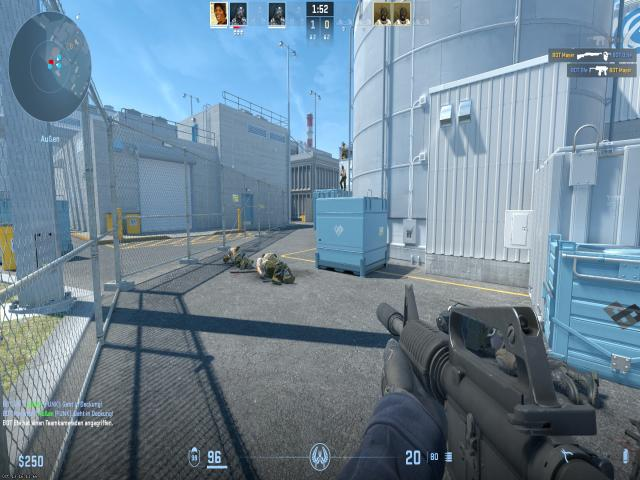Dead: (436, 301, 587, 374), (262, 250, 298, 281), (254, 258, 283, 287), (223, 245, 253, 270)
T: (340, 166, 346, 189), (342, 143, 346, 158)
T-Head: (341, 166, 345, 170), (343, 143, 345, 146)
